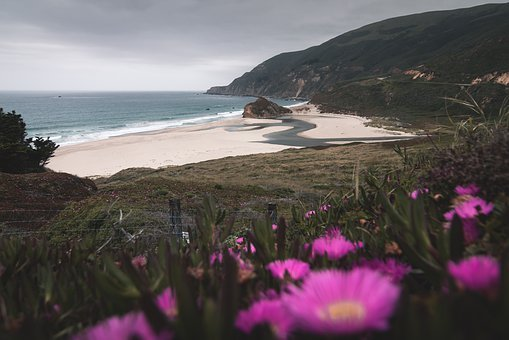flower: (174, 190, 490, 331)
mountain: (27, 150, 503, 330), (264, 16, 509, 123)
sea: (23, 91, 364, 158)
sky: (4, 4, 330, 89)
